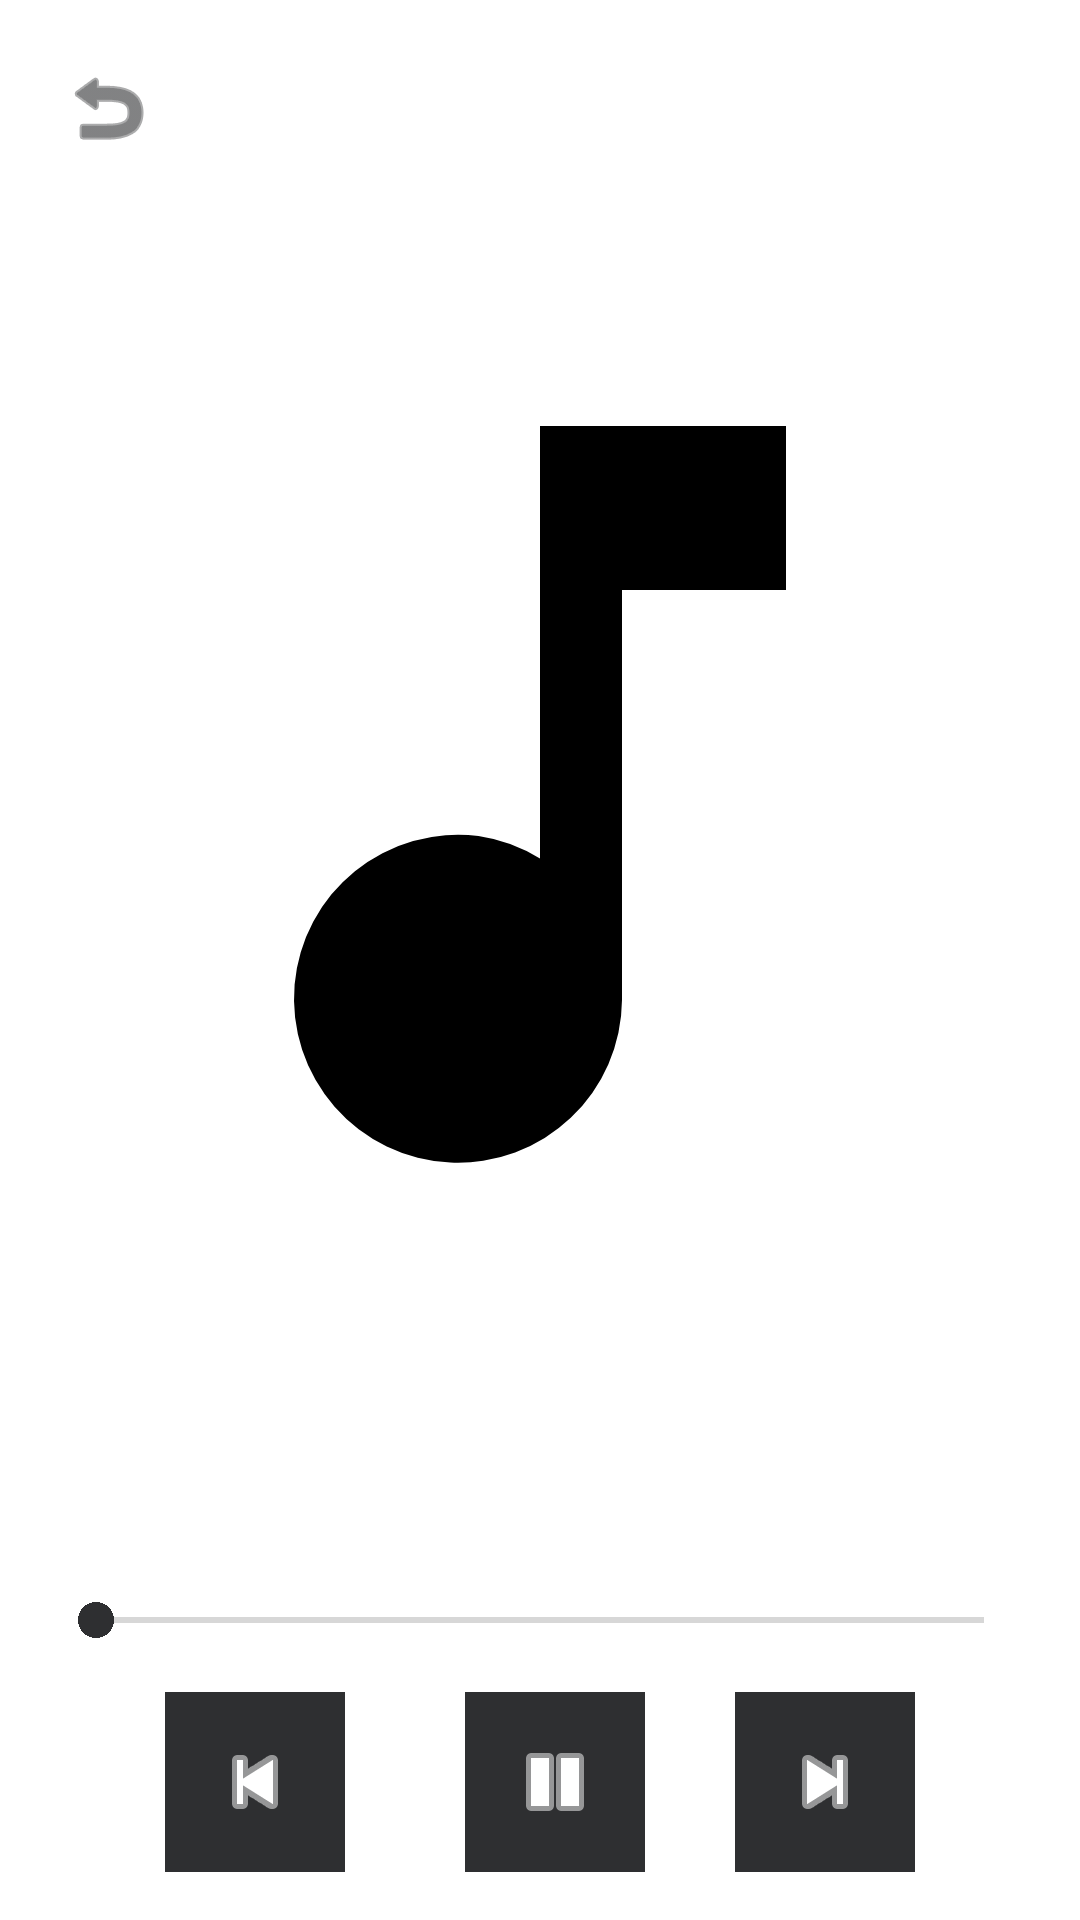

Icon click points for this 1080w x 1920h phone screenshot, format (x,y):
Next: (825,1782)
Play/Pause: (555,1782)
Previous: (255,1782)
